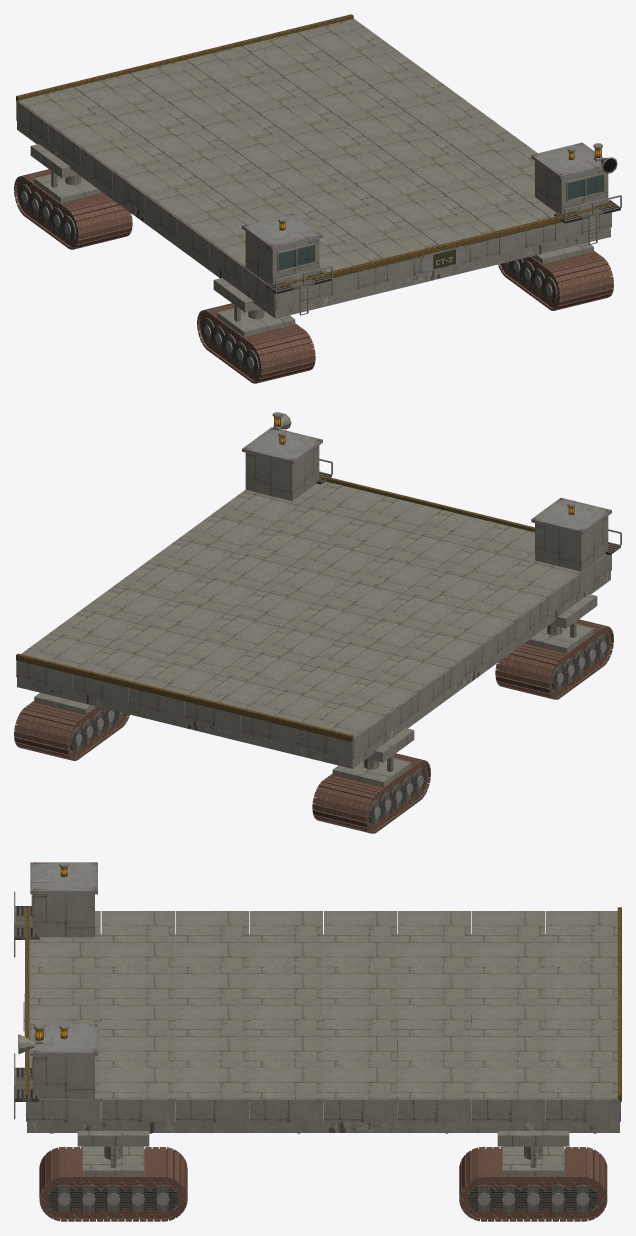
The model's file is crawler-transporter.glb.
3 views of the same model, one above another, from view 1: azimuth 30°, elevation 25°; view 2: azimuth 150°, elevation 25°; view 3: azimuth 270°, elevation 25° (orthographic). The views are drawn at different scales.
Parts seen in each view (by area): view 1: crawler-transporter_metal, crawler-tread-1_metal, crawler-tread-0_metal, crawler-tread-3_metal, crawler-transporter_signage; view 2: crawler-transporter_metal, crawler-tread-0_metal, crawler-tread-1_metal, crawler-tread-2_metal, crawler-transporter_signage; view 3: crawler-transporter_metal, crawler-tread-3_metal, crawler-tread-2_metal, crawler-transporter_signage.
Boxes of the visible parts, x1=… form: crawler-transporter_metal: x1=16, y1=18, x2=621, y2=336; crawler-tread-1_metal: x1=197, y1=303, x2=315, y2=383; crawler-tread-0_metal: x1=14, y1=169, x2=132, y2=249; crawler-tread-3_metal: x1=498, y1=251, x2=613, y2=310; crawler-transporter_signage: x1=16, y1=14, x2=611, y2=287; crawler-transporter_metal: x1=16, y1=412, x2=621, y2=786; crawler-tread-0_metal: x1=312, y1=753, x2=430, y2=833; crawler-tread-1_metal: x1=495, y1=619, x2=613, y2=699; crawler-tread-2_metal: x1=14, y1=701, x2=129, y2=760; crawler-transporter_signage: x1=16, y1=475, x2=611, y2=741; crawler-transporter_metal: x1=14, y1=862, x2=620, y2=1176; crawler-tread-3_metal: x1=39, y1=1146, x2=187, y2=1221; crawler-tread-2_metal: x1=459, y1=1146, x2=607, y2=1221; crawler-transporter_signage: x1=23, y1=907, x2=621, y2=1101.
Size of the model in its own units: 37.94 by 16.69 by 49.23.
3 materials, 3 textured.
